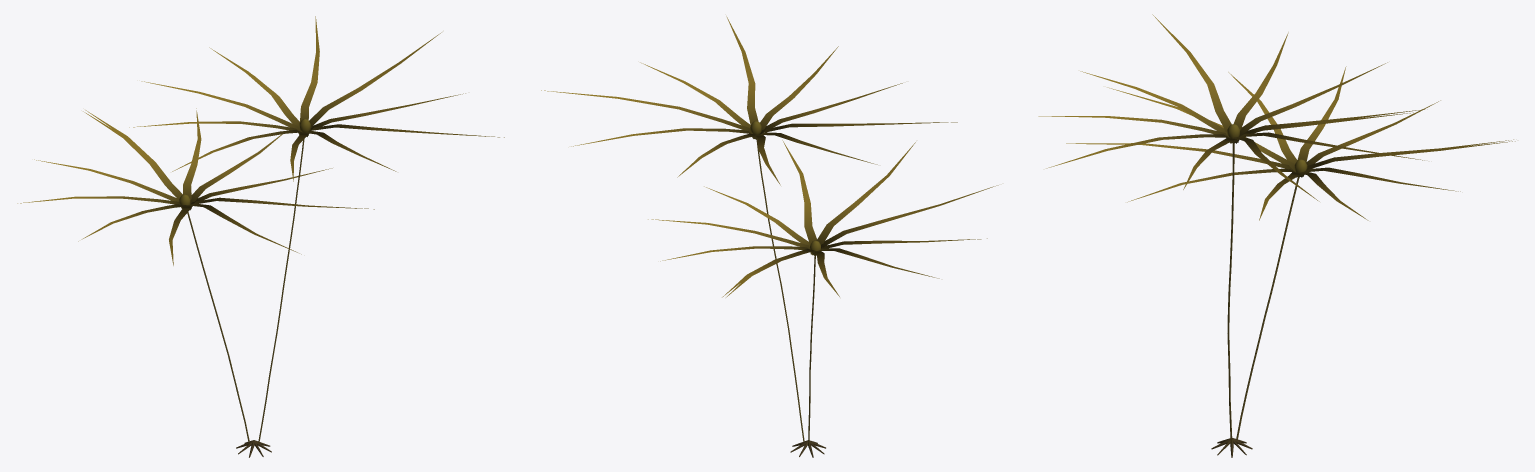
File: kelp-bull-a.lod0.glb
3 views of the same model, side by side, from view 1: azimuth 30°, elevation 25°; view 2: azimuth 150°, elevation 25°; view 3: azimuth 270°, elevation 25° (orthographic). The views are drawn at different scales.
Visible parts, largest first — view 1: kelp-bull-a.lod0; view 2: kelp-bull-a.lod0; view 3: kelp-bull-a.lod0.
Boxes of the visible parts, x1,y1,x2,y2 form: kelp-bull-a.lod0: [17, 16, 504, 457]; kelp-bull-a.lod0: [541, 16, 998, 457]; kelp-bull-a.lod0: [1038, 14, 1515, 457].
Size of the model in its own units: 4.76 by 3.63 by 4.31.
